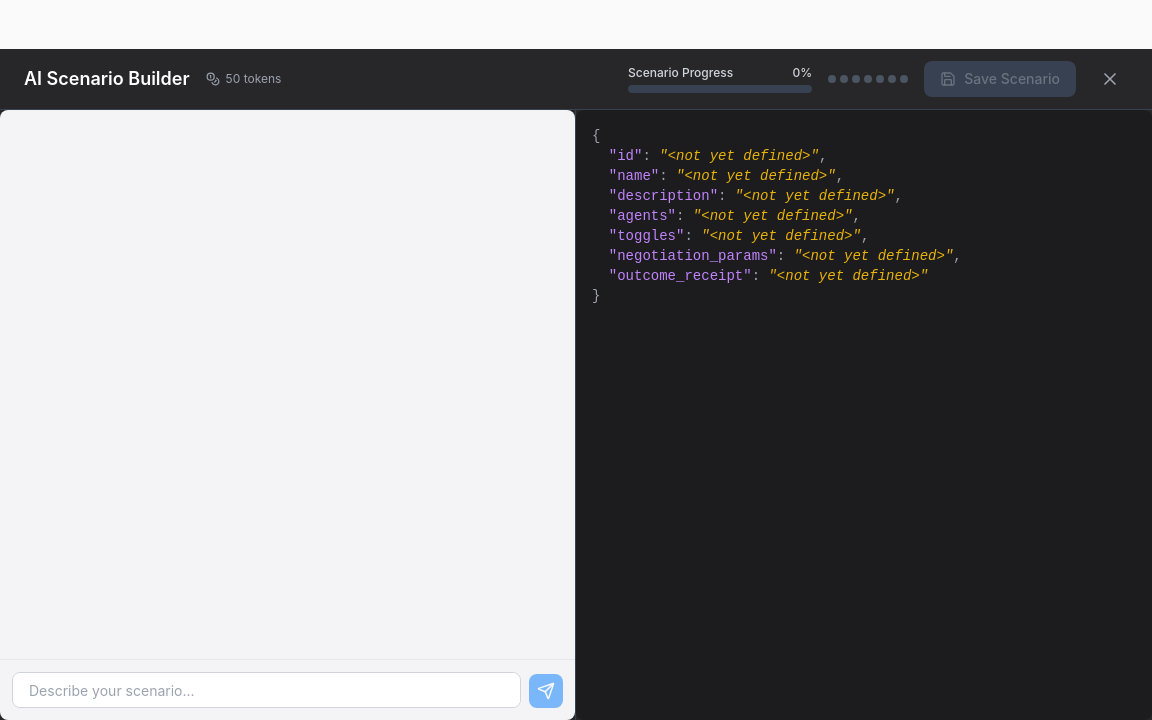
Test case: BuilderModal close confirmation › Continue Building dismisses the dialog
Type "Go" into the text box with test id "chat-input" at (266, 690), box x1=12 y1=672 x2=521 y2=708
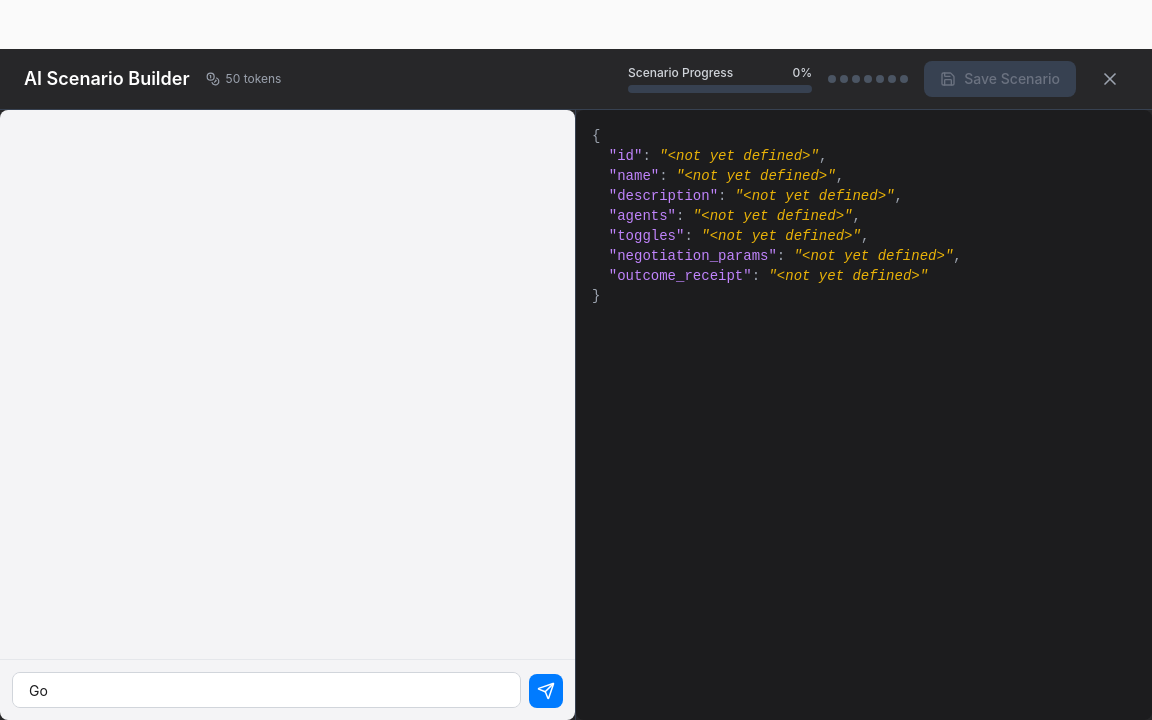
Click the button with test id "send-button" at (546, 691), box x1=529 y1=674 x2=563 y2=708
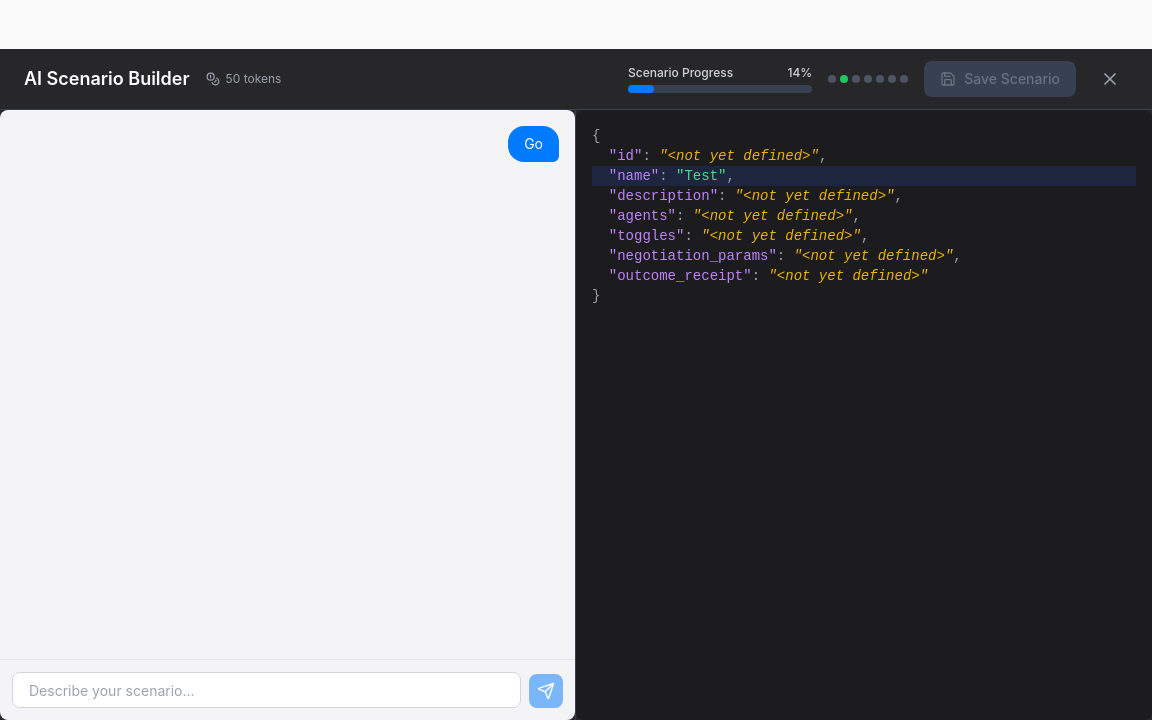
Click the button with test id "close-button" at (1110, 79), box x1=1092 y1=61 x2=1128 y2=97
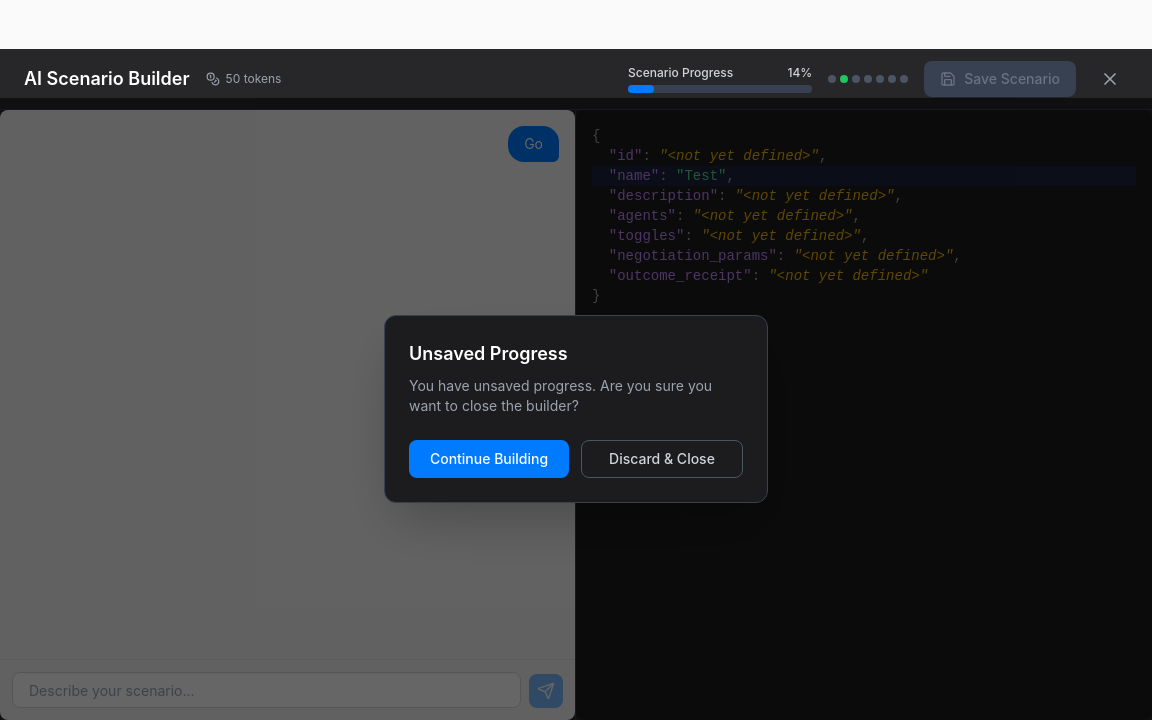
Result: the element with test id "confirm-close-dialog" is shown
Click the button with test id "continue-building-button" at (489, 459), box x1=409 y1=440 x2=569 y2=478
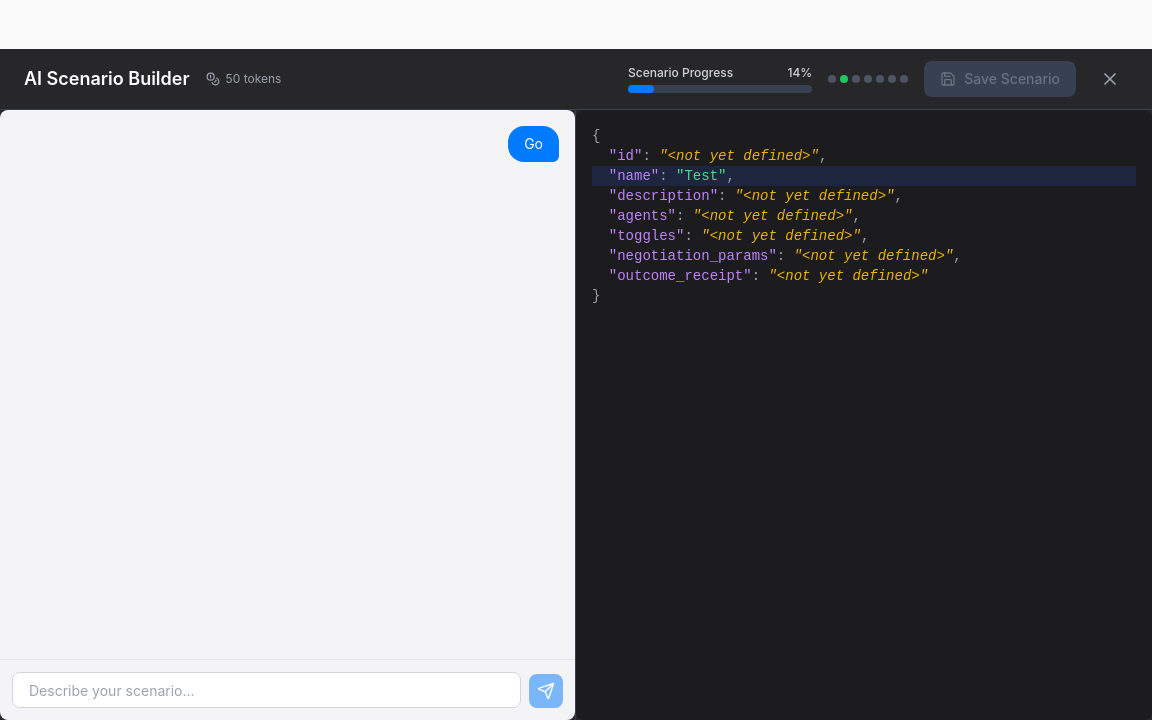
Result: the element with test id "confirm-close-dialog" is gone
